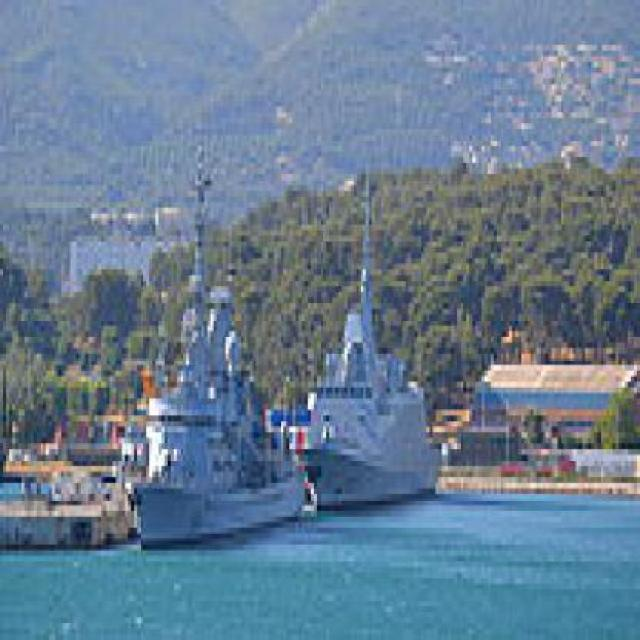warship2: (127, 169, 298, 563), (296, 164, 455, 540)
